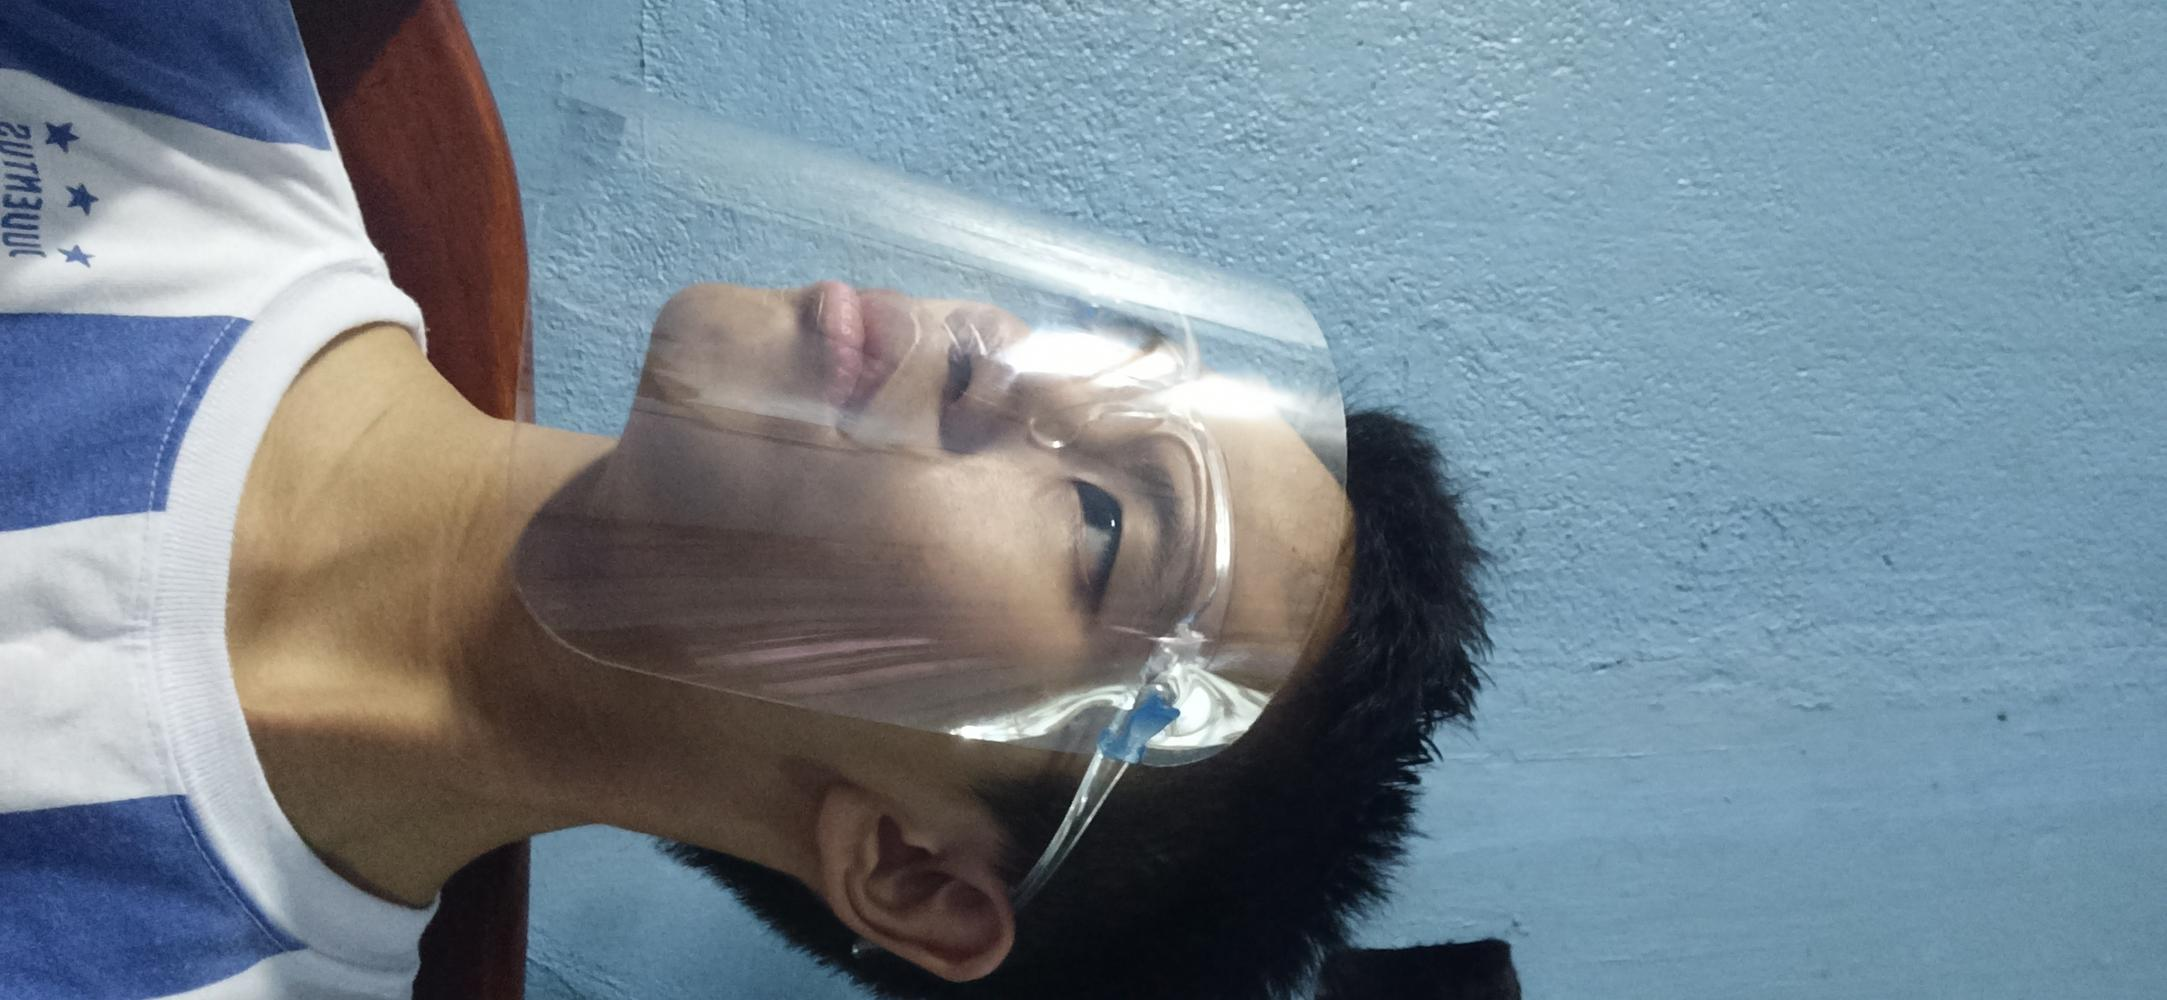Face Shield: (555, 69, 1349, 747)
